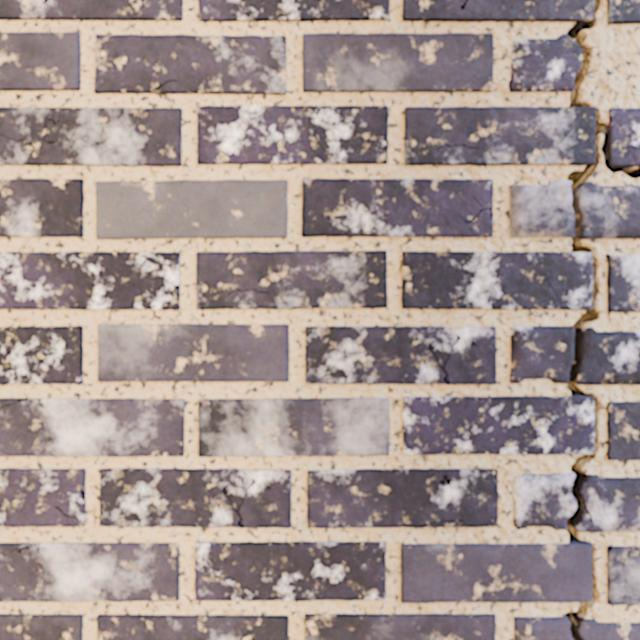brick: (95, 35, 285, 93), (401, 544, 591, 602), (195, 542, 385, 600), (96, 180, 286, 238), (307, 469, 497, 527), (100, 469, 290, 527), (303, 33, 492, 91), (199, 398, 388, 456), (403, 397, 593, 454), (98, 324, 288, 381), (302, 179, 492, 236), (198, 106, 387, 163), (405, 107, 594, 164), (197, 251, 386, 308), (305, 327, 495, 383), (402, 252, 591, 308), (0, 399, 183, 456), (0, 543, 178, 601), (0, 108, 181, 165), (0, 252, 179, 309), (0, 469, 84, 526), (0, 179, 83, 236), (305, 614, 494, 639), (0, 326, 82, 383), (0, 32, 79, 90), (98, 615, 287, 639), (403, 0, 592, 20), (199, 0, 388, 20), (0, 0, 182, 20), (0, 615, 82, 639), (608, 402, 639, 459), (608, 547, 639, 604), (608, 255, 639, 311), (609, 108, 639, 165), (608, 0, 639, 23), (468, 211, 492, 236), (0, 543, 29, 552), (0, 399, 16, 405)
broken_brick: (508, 33, 581, 92), (509, 179, 572, 238), (509, 325, 573, 383), (577, 473, 639, 532), (512, 472, 574, 530), (578, 327, 639, 385), (579, 181, 639, 239), (513, 616, 571, 639), (581, 618, 639, 639)
crack: (563, 0, 639, 639), (0, 114, 60, 156), (221, 477, 256, 528), (427, 333, 461, 384), (454, 195, 493, 237), (543, 272, 570, 309), (0, 397, 45, 411), (54, 506, 84, 526), (0, 543, 41, 556), (418, 519, 463, 528), (621, 546, 632, 580), (65, 485, 85, 501), (459, 0, 468, 10), (607, 545, 612, 551), (42, 0, 48, 5)
